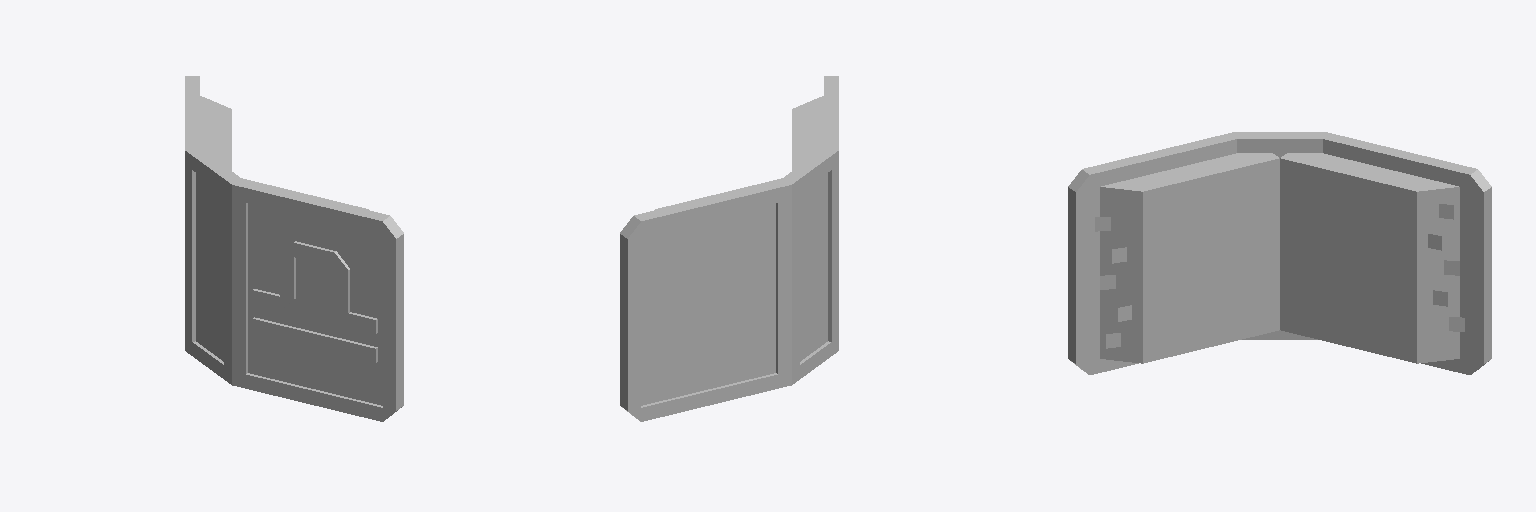
Rendered from sublimation_primer_open.obj.
3 views of the same model, side by side, from view 1: azimuth 30°, elevation 25°; view 2: azimuth 150°, elevation 25°; view 3: azimuth 270°, elevation 25° (orthographic).
Parts seen in each view (by area): view 1: COVER_RIGHT_OPEN_Cube.005, SPINE_OPEN_Cube.011, PAGES_LEFT_OPEN_Cube.013, COVER_LEFT_OPEN_Cube.012; view 2: COVER_LEFT_OPEN_Cube.012, SPINE_OPEN_Cube.011, PAGES_RIGHT_OPEN_Cube.009, COVER_RIGHT_OPEN_Cube.005; view 3: PAGES_RIGHT_OPEN_Cube.009, PAGES_LEFT_OPEN_Cube.013, COVER_LEFT_OPEN_Cube.012, COVER_RIGHT_OPEN_Cube.005, SPINE_OPEN_Cube.011.
Part boxes in pixels (left/top/right/bottom): COVER_RIGHT_OPEN_Cube.005: left=232, top=179, right=403, bottom=421; SPINE_OPEN_Cube.011: left=185, top=148, right=242, bottom=384; PAGES_LEFT_OPEN_Cube.013: left=200, top=96, right=231, bottom=170; COVER_LEFT_OPEN_Cube.012: left=185, top=76, right=199, bottom=149; COVER_LEFT_OPEN_Cube.012: left=620, top=179, right=791, bottom=421; SPINE_OPEN_Cube.011: left=781, top=148, right=838, bottom=384; PAGES_RIGHT_OPEN_Cube.009: left=792, top=96, right=823, bottom=170; COVER_RIGHT_OPEN_Cube.005: left=824, top=76, right=838, bottom=149; PAGES_RIGHT_OPEN_Cube.009: left=1095, top=153, right=1279, bottom=363; PAGES_LEFT_OPEN_Cube.013: left=1280, top=153, right=1464, bottom=363; COVER_LEFT_OPEN_Cube.012: left=1323, top=132, right=1491, bottom=374; COVER_RIGHT_OPEN_Cube.005: left=1068, top=132, right=1236, bottom=374; SPINE_OPEN_Cube.011: left=1233, top=132, right=1326, bottom=339.
Size of the model in its own units: 0.4359 by 0.875 by 1.67.